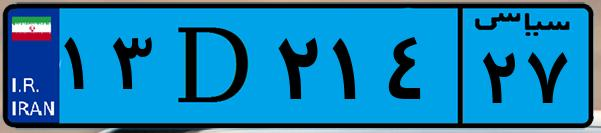1: (330, 28, 385, 110), (57, 26, 110, 100)
2: (270, 28, 330, 110), (475, 38, 525, 113)
3: (110, 28, 158, 98)
4: (385, 28, 445, 110)
7: (525, 38, 570, 115)
D: (158, 12, 270, 120)
